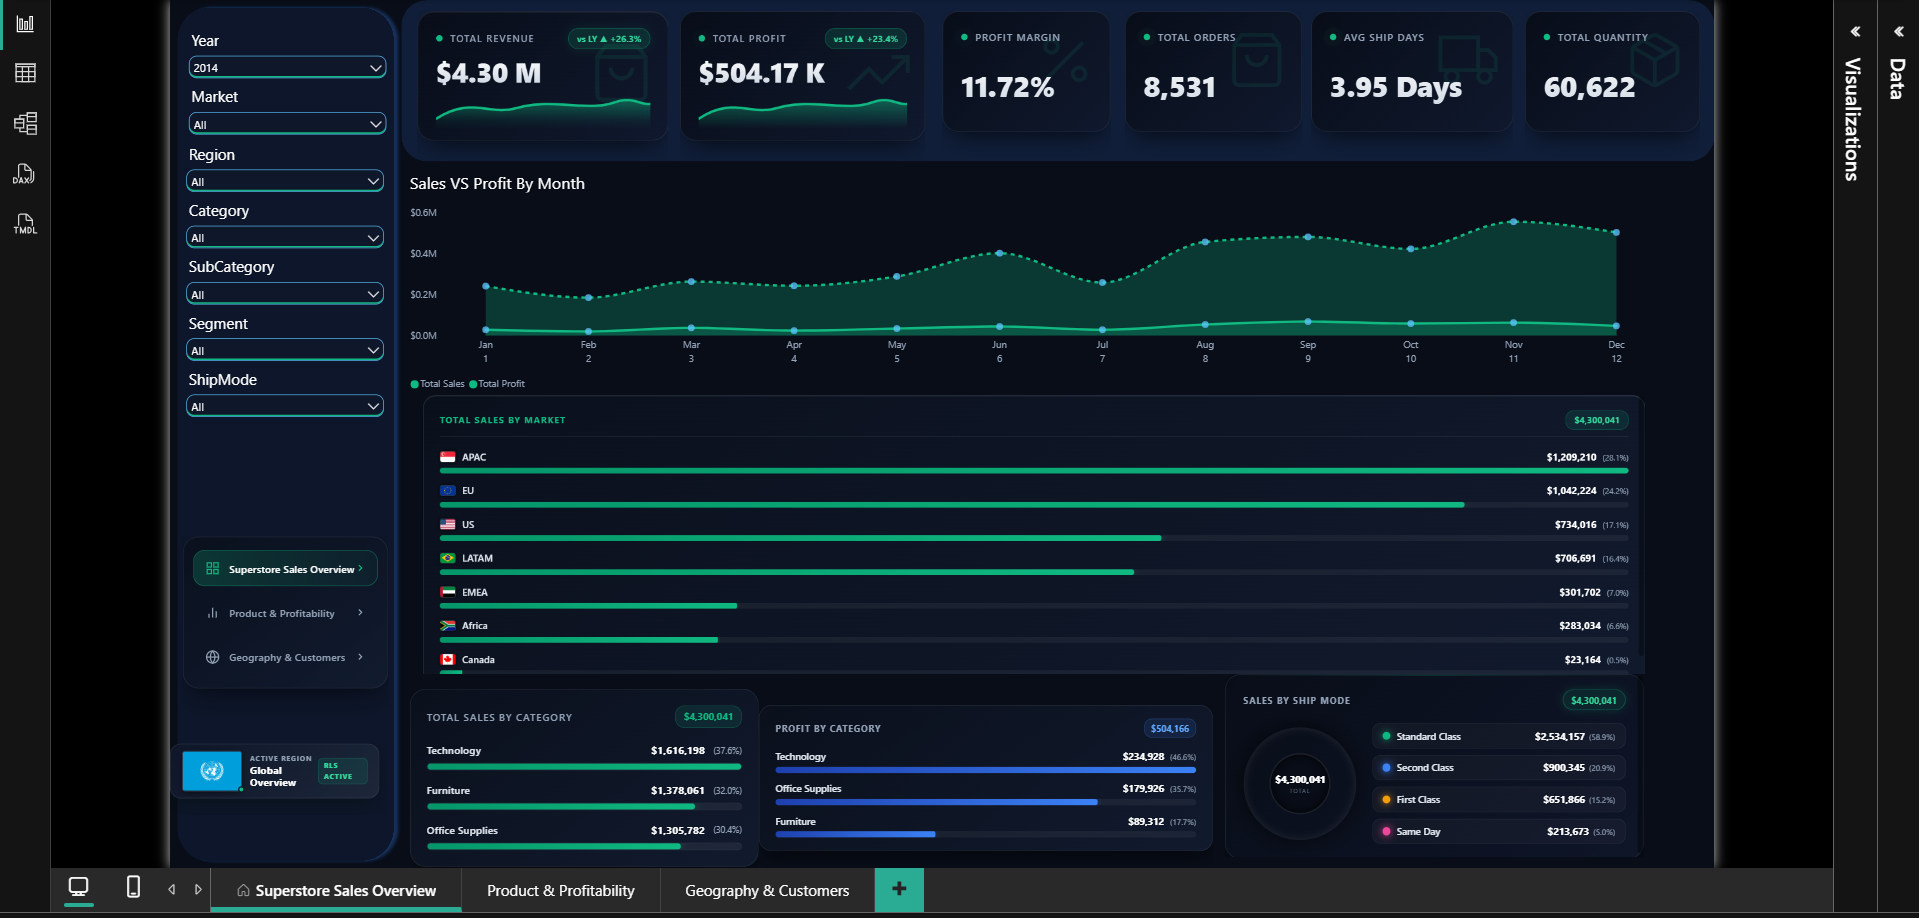

Layout of this report page (visuals, bound fields, positions):
{"tool":"powerbi","page":{"name":"Superstore Sales Overview","canvas":[1920,1080],"ordinal":0},"visuals":[{"type":"cardVisual","fields":{"Data":["dw FactSales.Total Sales"]},"box":[304.2,14.4,291.8,187.3],"z":0},{"type":"lineChart","fields":{"Y":["dw FactSales.Total Sales"],"Category":["dw DimDate.Month"]},"box":[270,108,325.8,79.2],"z":1000},{"type":"cardVisual","fields":{"Data":["dw FactSales.Total Profit"]},"box":[620.9,14.4,291.8,187.3],"z":2000},{"type":"lineChart","fields":{"Y":["dw FactSales.Total Profit"],"Category":["dw DimDate.Month"]},"box":[595.7,108,316.8,79.2],"z":3000},{"type":"cardVisual","fields":{"Data":["dw FactSales.Profit Margin %"]},"box":[939.5,14.4,291.8,187.3],"z":4000},{"type":"cardVisual","fields":{"Data":["dw FactSales.Orders"]},"box":[1279.6,14.4,291.8,187.3],"z":5000},{"type":"cardVisual","fields":{"Data":["dw FactSales.Total Quantity"]},"box":[1607.2,14.4,291.8,187.3],"z":6000},{"type":"lineChart","title":" Sales VS Profit By Month","fields":{"Category":["dw DimDate.Month"],"Y":["dw FactSales.Total Sales"],"Y2":["dw FactSales.Total Profit"]},"box":[304.2,214.2,1591,430.1],"z":7000},{"type":"barChart","fields":{"Y":["dw FactSales.Total Sales"],"Category":["dw DimGeography.Market"]},"box":[1106.9,644.3,813.5,232.2],"z":8000},{"type":"shape","box":[0,0,288,1079.9],"z":9000},{"type":"slicer","fields":{"Values":["dw DimDate.Year"]},"box":[18,37.8,255.6,70.2],"z":10000},{"type":"slicer","fields":{"Values":["dw DimGeography.Market"]},"box":[18,108,255.6,70.2],"z":11000},{"type":"slicer","fields":{"Values":["dw DimGeography.Region"]},"box":[16.2,178.2,255.6,70.2],"z":12000},{"type":"slicer","fields":{"Values":["dw DimProduct.Category"]},"box":[16.2,248.4,255.6,70.2],"z":13000},{"type":"slicer","fields":{"Values":["dw DimProduct.SubCategory"]},"box":[16.2,318.6,255.6,70.2],"z":14000},{"type":"slicer","fields":{"Values":["dw DimCustomer.Segment"]},"box":[16.2,388.8,255.6,70.2],"z":15000},{"type":"slicer","fields":{"Values":["dw DimShipping.ShipMode"]},"box":[16.2,458.9,255.6,66.6],"z":16000},{"type":"barChart","fields":{"Category":["dw DimProduct.Category"],"Y":["dw FactSales.Total Profit"]},"box":[271.8,876.5,813.5,203.4],"z":17000},{"type":"barChart","fields":{"Y":["dw FactSales.Total Sales"],"Category":["dw DimProduct.Category"]},"box":[271.8,646.1,813.5,232.2],"z":18000},{"type":"lineStackedColumnComboChart","fields":{"Category":["dw DimShipping.ShipMode"],"Y":["dw FactSales.Total Sales"]},"box":[1085.3,863.9,813.5,216],"z":19000},{"type":"pageNavigator","box":[17,590.4,253.5,238.2],"z":20000}]}

Visuals, with their boxes on the page's 1920x1080 design canvas (x1, y1, x2, y2). These are canvas units, not pixel positions in the 1919x918 screenshot, which may show the page scaled, cropped or inside an application window:
cardVisual - dw FactSales.Total Sales: [304,14,596,202]
lineChart - dw FactSales.Total Sales x dw DimDate.Month: [270,108,596,187]
cardVisual - dw FactSales.Total Profit: [621,14,913,202]
lineChart - dw FactSales.Total Profit x dw DimDate.Month: [596,108,912,187]
cardVisual - dw FactSales.Profit Margin %: [940,14,1231,202]
cardVisual - dw FactSales.Orders: [1280,14,1571,202]
cardVisual - dw FactSales.Total Quantity: [1607,14,1899,202]
" Sales VS Profit By Month" lineChart: [304,214,1895,644]
barChart - dw FactSales.Total Sales x dw DimGeography.Market: [1107,644,1920,876]
shape: [0,0,288,1080]
slicer - dw DimDate.Year: [18,38,274,108]
slicer - dw DimGeography.Market: [18,108,274,178]
slicer - dw DimGeography.Region: [16,178,272,248]
slicer - dw DimProduct.Category: [16,248,272,319]
slicer - dw DimProduct.SubCategory: [16,319,272,389]
slicer - dw DimCustomer.Segment: [16,389,272,459]
slicer - dw DimShipping.ShipMode: [16,459,272,526]
barChart - dw DimProduct.Category x dw FactSales.Total Profit: [272,876,1085,1080]
barChart - dw FactSales.Total Sales x dw DimProduct.Category: [272,646,1085,878]
lineStackedColumnComboChart - dw DimShipping.ShipMode x dw FactSales.Total Sales: [1085,864,1899,1080]
pageNavigator: [17,590,270,829]
